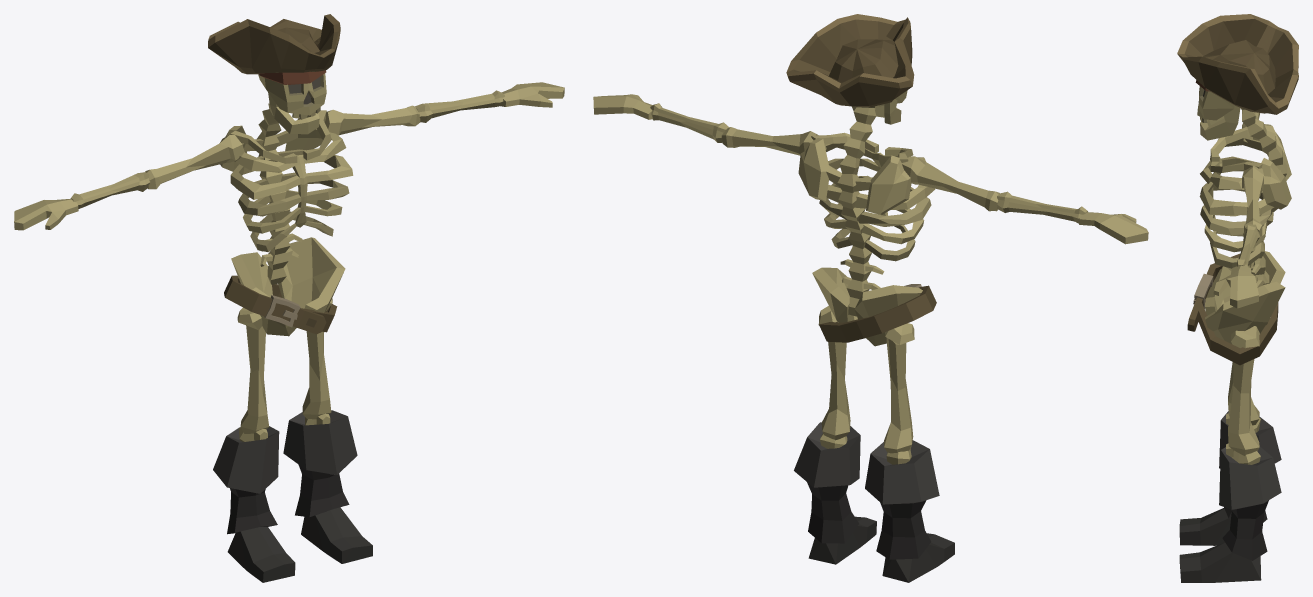
Rendered from Sceleton_4.fbx.
The picture shows the model from 3 angles, left to right: view 1: azimuth 30°, elevation 25°; view 2: azimuth 150°, elevation 25°; view 3: azimuth 270°, elevation 25°; orthographic projection. The views are drawn at different scales.
Parts seen in each view (by area): view 1: Sceleton_4; view 2: Sceleton_4; view 3: Sceleton_4.
Part boxes in pixels (bbox=[...]): Sceleton_4: bbox=[14, 14, 564, 582]; Sceleton_4: bbox=[593, 14, 1148, 582]; Sceleton_4: bbox=[1177, 14, 1298, 582].
Bounding box in the file's own units: 197 × 183 × 38.32.
